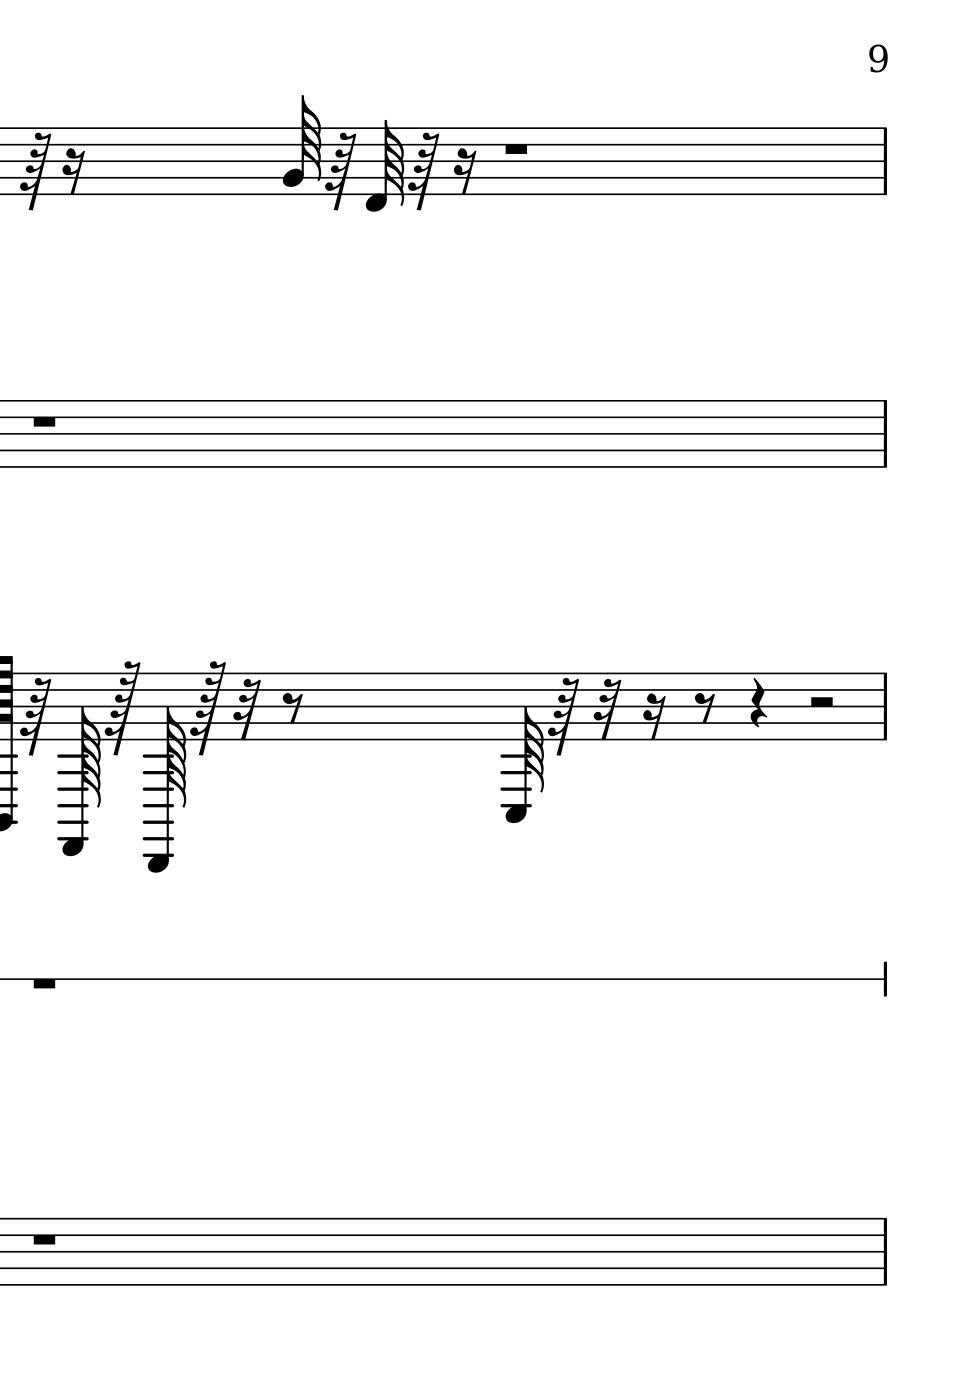64_-1: (365, 119, 408, 213)
64_2: (279, 97, 321, 199)
9: (867, 42, 888, 73)
Rests1: (29, 973, 62, 995), (27, 1230, 60, 1249), (27, 413, 60, 431), (500, 140, 531, 158)
Rests128: (105, 659, 145, 755), (187, 657, 227, 754)
Rests16: (641, 692, 667, 742), (452, 147, 477, 197), (60, 147, 85, 197)
Rests2: (804, 694, 837, 714)
Rests32: (233, 677, 262, 745), (593, 678, 622, 744)
Rests4: (748, 677, 767, 730)
Rests64: (323, 130, 357, 210), (20, 131, 53, 211), (408, 129, 441, 209), (549, 676, 580, 757), (21, 674, 52, 755)
Rests8: (280, 690, 303, 726), (692, 690, 715, 724)
Single_barline: (876, 400, 893, 468), (876, 128, 893, 195), (876, 673, 893, 740), (876, 1218, 893, 1285)
